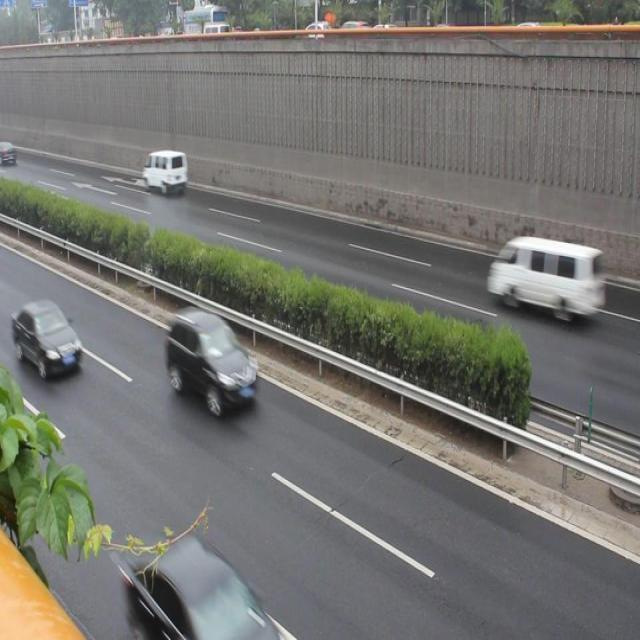car: (130, 526, 278, 640), (165, 302, 261, 418), (14, 294, 85, 386)
truck: (485, 233, 599, 326), (140, 152, 191, 196)
